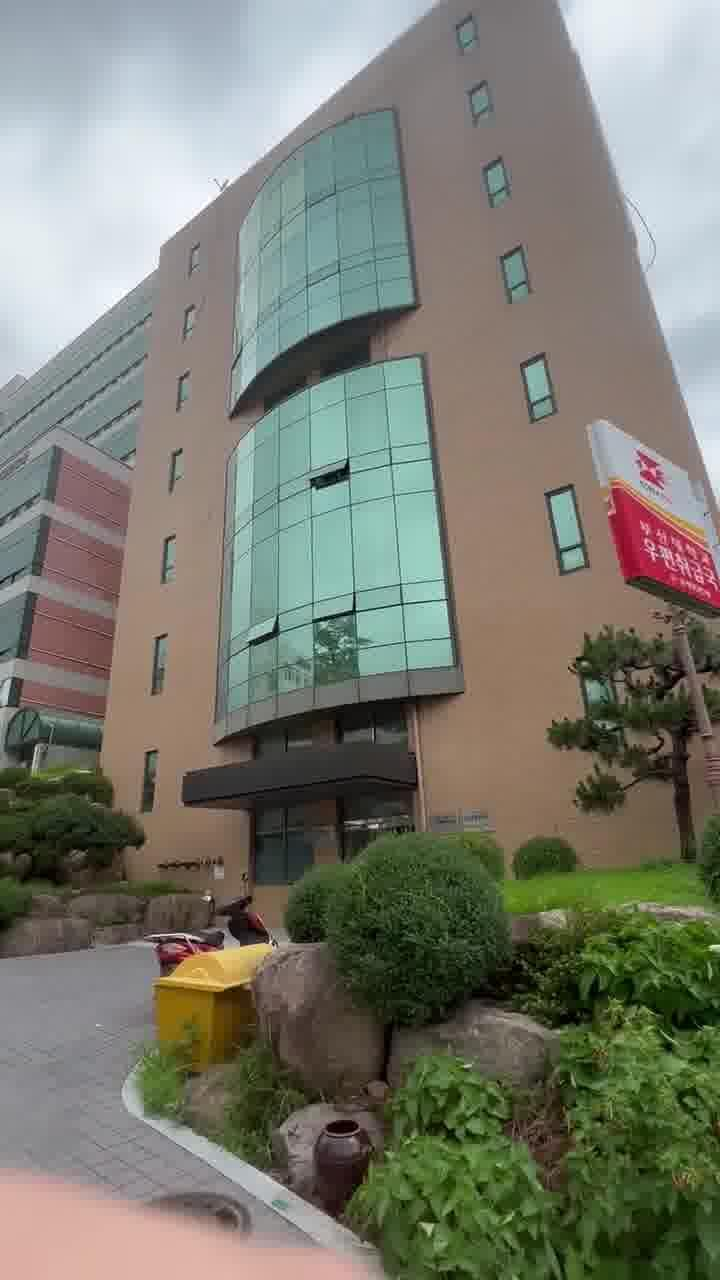building: (136, 112, 572, 824)
